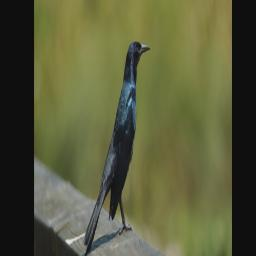Crow: (82, 38, 150, 256)
